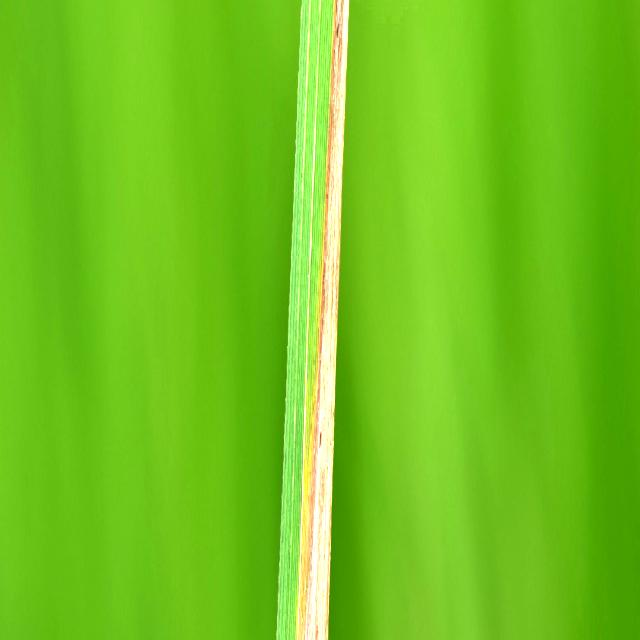BLB: (296, 0, 349, 638)
